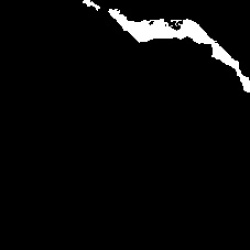crack: (110, 10, 249, 93)
pinhole: (82, 1, 100, 12)
